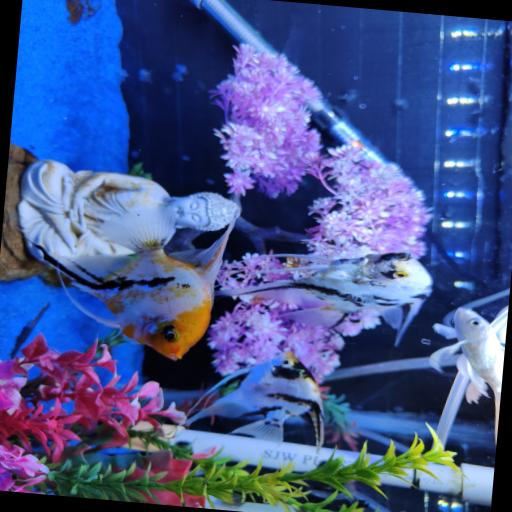Fish: (37, 206, 233, 359), (216, 253, 431, 345), (185, 352, 323, 449), (429, 308, 504, 445)
